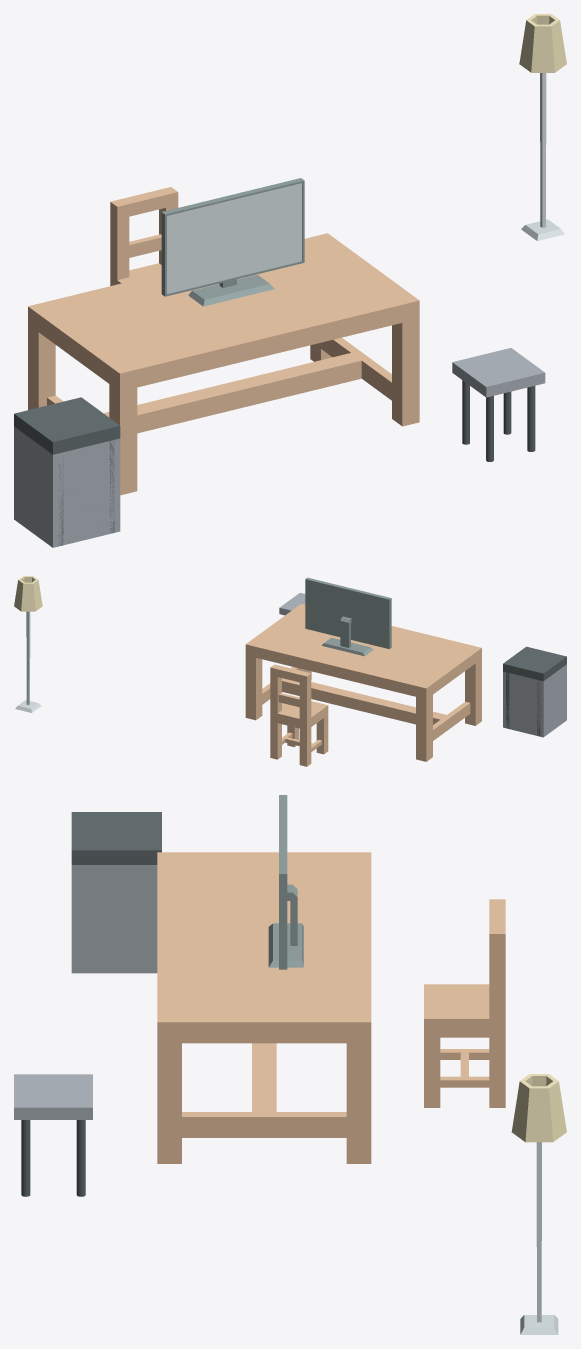
3 renders of one model, top to bottom at view 1: azimuth 30°, elevation 25°; view 2: azimuth 150°, elevation 25°; view 3: azimuth 270°, elevation 25°, orthographic. The views are drawn at different scales.
Visible parts, largest first — view 1: table_green__table(Clone), tv_black__televisionModern(Clone), bin_gray__bin_gray shell, lamp_white__lampRoundFloor(Clone), bin_gray__bin_gray lid, chair_cyan__chair(Clone), stool_purple__stool_purple seat; view 2: table_green__table(Clone), tv_black__televisionModern(Clone), chair_cyan__chair(Clone), bin_gray__bin_gray shell, lamp_white__lampRoundFloor(Clone), bin_gray__bin_gray lid, bin_gray__bin_gray band.001, stool_purple__stool_purple seat; view 3: table_green__table(Clone), chair_cyan__chair(Clone), bin_gray__bin_gray shell, lamp_white__lampRoundFloor(Clone), bin_gray__bin_gray lid, stool_purple__stool_purple seat, tv_black__televisionModern(Clone), stool_purple__stool_purple leg.002, stool_purple__stool_purple leg.003.
Part boxes in pixels (left/top/right/bottom): table_green__table(Clone): left=28, top=233, right=419, bottom=495; tv_black__televisionModern(Clone): left=161, top=178, right=304, bottom=306; bin_gray__bin_gray shell: left=14, top=426, right=120, bottom=547; lamp_white__lampRoundFloor(Clone): left=519, top=14, right=566, bottom=240; bin_gray__bin_gray lid: left=14, top=397, right=120, bottom=454; chair_cyan__chair(Clone): left=110, top=187, right=178, bottom=285; stool_purple__stool_purple seat: left=452, top=348, right=545, bottom=397; table_green__table(Clone): left=245, top=603, right=481, bottom=761; tv_black__televisionModern(Clone): left=305, top=577, right=391, bottom=656; chair_cyan__chair(Clone): left=270, top=664, right=328, bottom=766; bin_gray__bin_gray shell: left=503, top=664, right=566, bottom=737; lamp_white__lampRoundFloor(Clone): left=14, top=576, right=42, bottom=712; bin_gray__bin_gray lid: left=503, top=646, right=566, bottom=681; bin_gray__bin_gray band.001: left=506, top=647, right=532, bottom=728; stool_purple__stool_purple seat: left=279, top=593, right=305, bottom=615; table_green__table(Clone): left=157, top=852, right=371, bottom=1163; chair_cyan__chair(Clone): left=424, top=899, right=505, bottom=1107; bin_gray__bin_gray shell: left=71, top=865, right=157, bottom=973; lamp_white__lampRoundFloor(Clone): left=511, top=1074, right=566, bottom=1334; bin_gray__bin_gray lid: left=71, top=812, right=161, bottom=864; stool_purple__stool_purple seat: left=14, top=1074, right=92, bottom=1119; tv_black__televisionModern(Clone): left=268, top=795, right=303, bottom=969; stool_purple__stool_purple leg.002: left=21, top=1120, right=30, bottom=1196; stool_purple__stool_purple leg.003: left=76, top=1120, right=85, bottom=1196.
Bounding box in the file's own units: 4.21 × 1.24 × 2.45.
